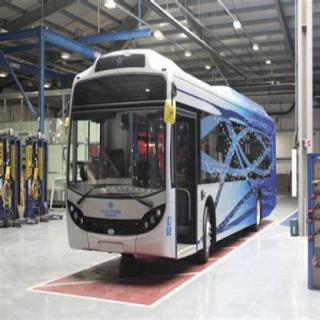Normal_vehicle: (62, 38, 288, 282)
